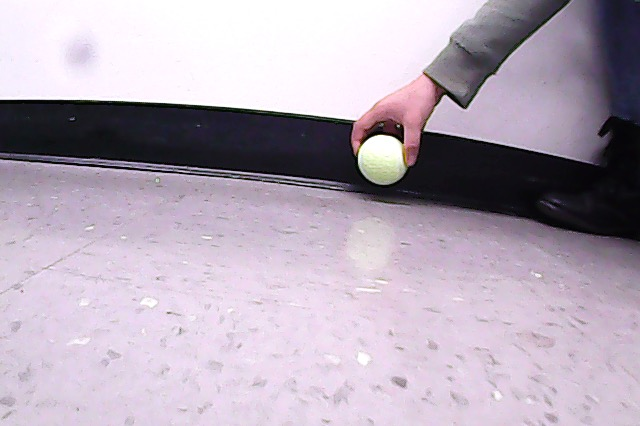ball: (354, 135, 412, 186)
